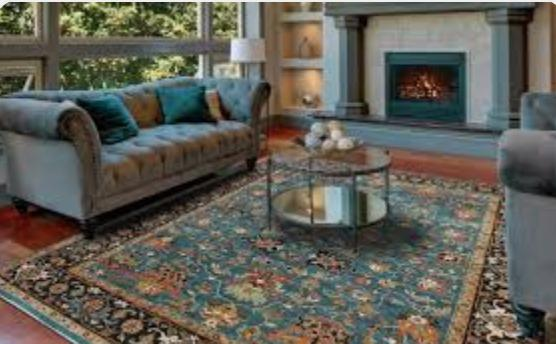carpet: (3, 160, 492, 344)
